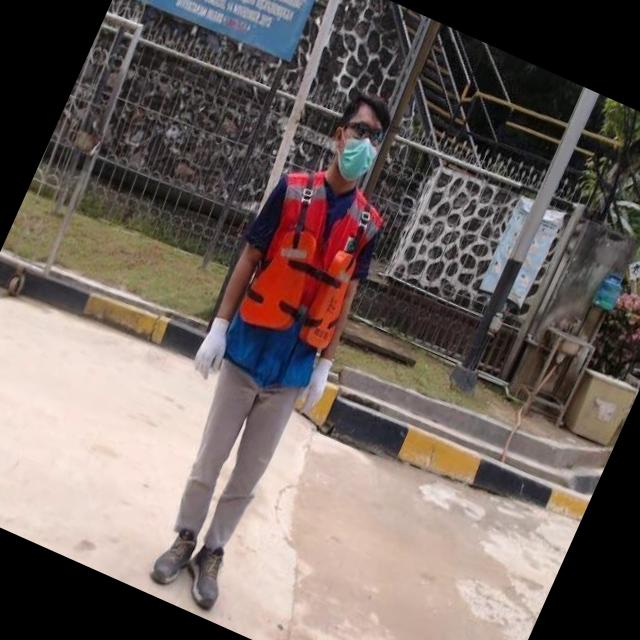safety_vest: (204, 155, 391, 400)
work_boots: (146, 517, 207, 597), (176, 541, 239, 616)
